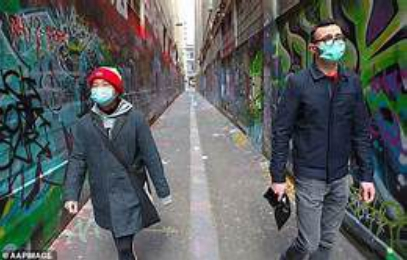mask: (313, 42, 350, 67), (80, 85, 122, 107)
social distancing: (37, 19, 392, 226)
